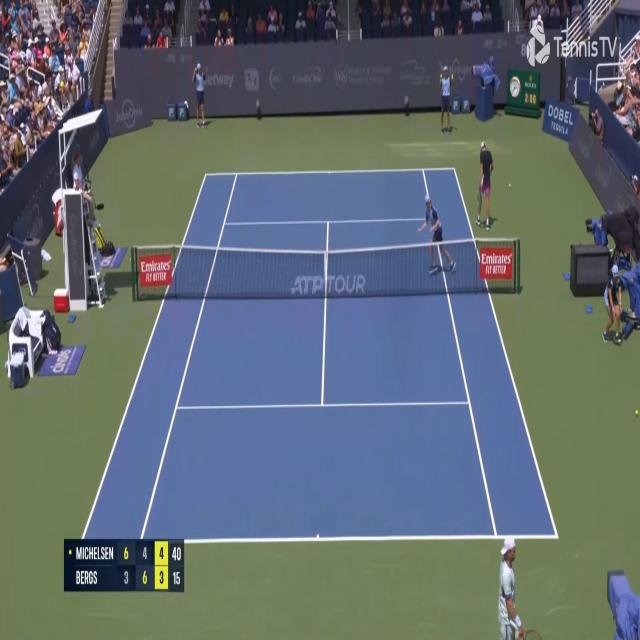tennis-player: (496, 532, 528, 640), (474, 136, 494, 232)
